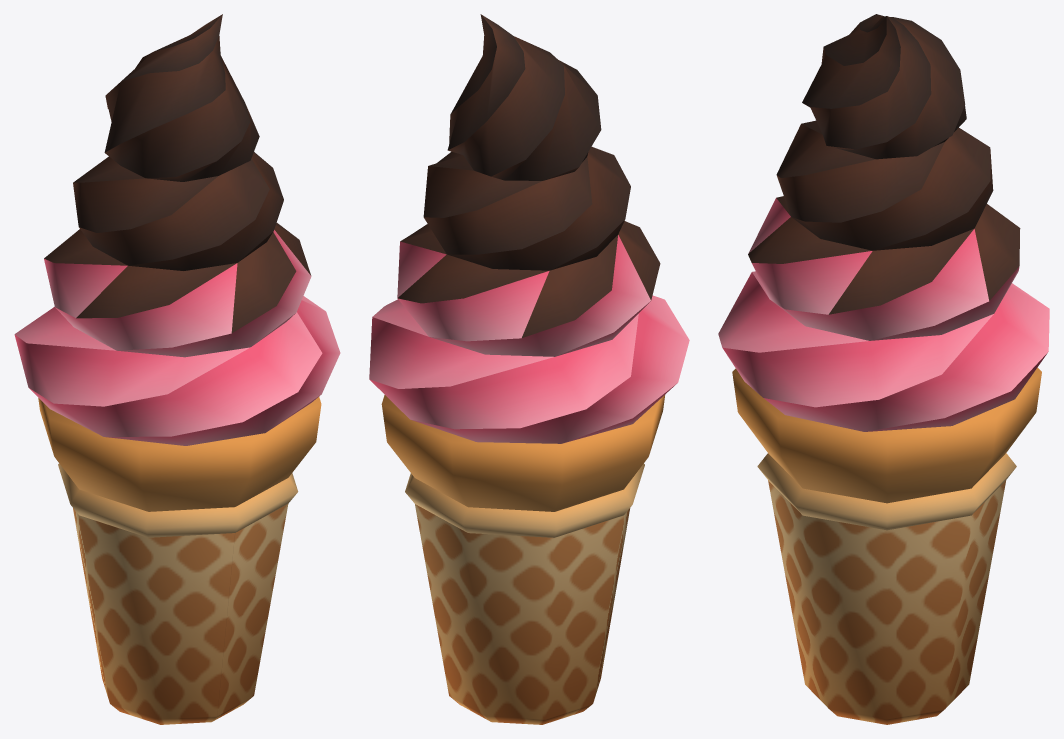
Rendered from m_Softserve13.fbx.
3 renders of one model, left to right at view 1: azimuth 30°, elevation 25°; view 2: azimuth 150°, elevation 25°; view 3: azimuth 270°, elevation 25°, orthographic. The views are drawn at different scales.
Visible parts, largest first — view 1: m_Softserve13; view 2: m_Softserve13; view 3: m_Softserve13.
Part boxes in pixels (<box>): m_Softserve13: <box>14,14,340,724</box>; m_Softserve13: <box>369,14,689,724</box>; m_Softserve13: <box>718,14,1049,724</box>.
Size of the model in its own units: 11.45 by 26 by 11.13.
